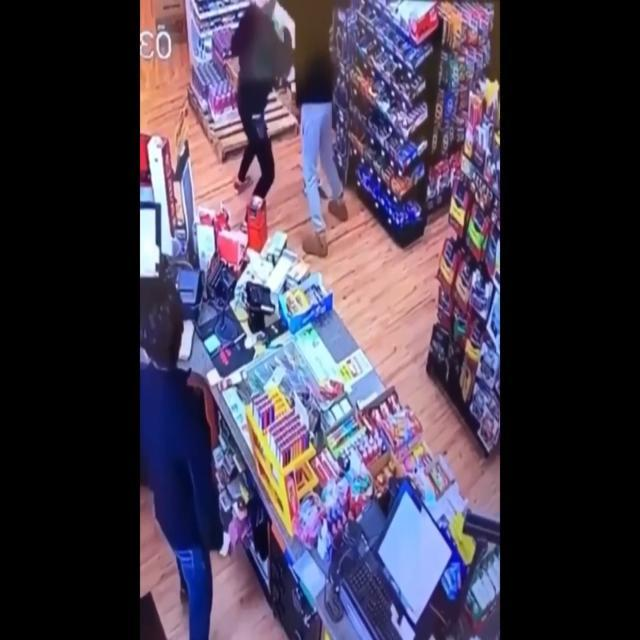non-violence: (141, 284, 224, 635)
violence: (234, 0, 348, 257)
